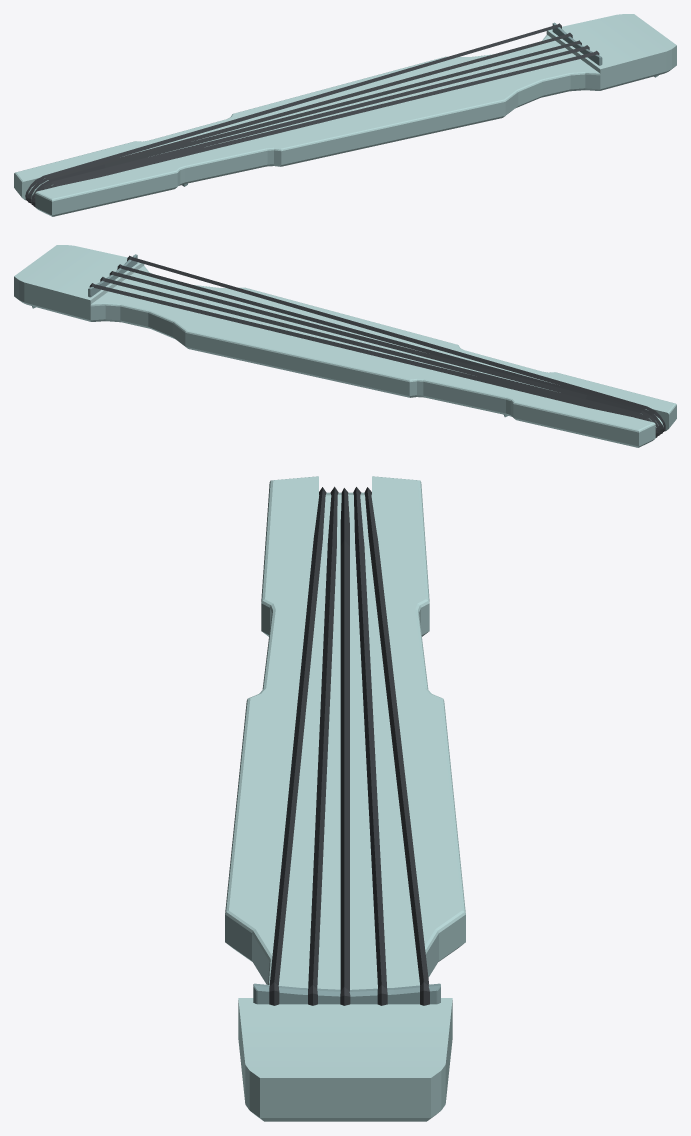
The model's file is Guqin_Stone.fbx.
3 renders of one model, top to bottom at view 1: azimuth 30°, elevation 25°; view 2: azimuth 150°, elevation 25°; view 3: azimuth 270°, elevation 25°, orthographic. The views are drawn at different scales.
Parts seen in each view (by area): view 1: Guqin_Stone; view 2: Guqin_Stone; view 3: Guqin_Stone.
Part boxes in pixels (<box>): Guqin_Stone: <box>14,14,676,216</box>; Guqin_Stone: <box>14,245,676,447</box>; Guqin_Stone: <box>225,476,465,1121</box>.
Size of the model in its own units: 1.2 by 0.0713 by 0.2.
1 material, 1 textured.
